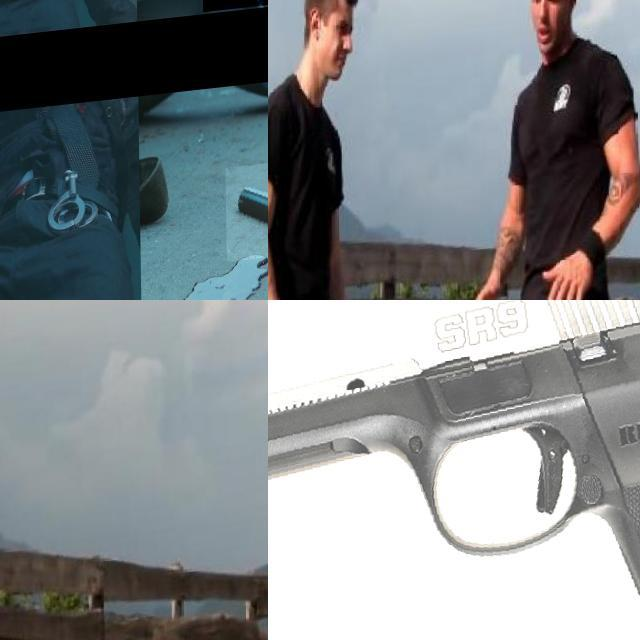gun-knife-thesis - v11 Yolov5 augmented: (268, 300, 640, 640), (224, 163, 268, 271), (0, 171, 36, 300), (201, 0, 268, 42), (0, 0, 31, 55)
